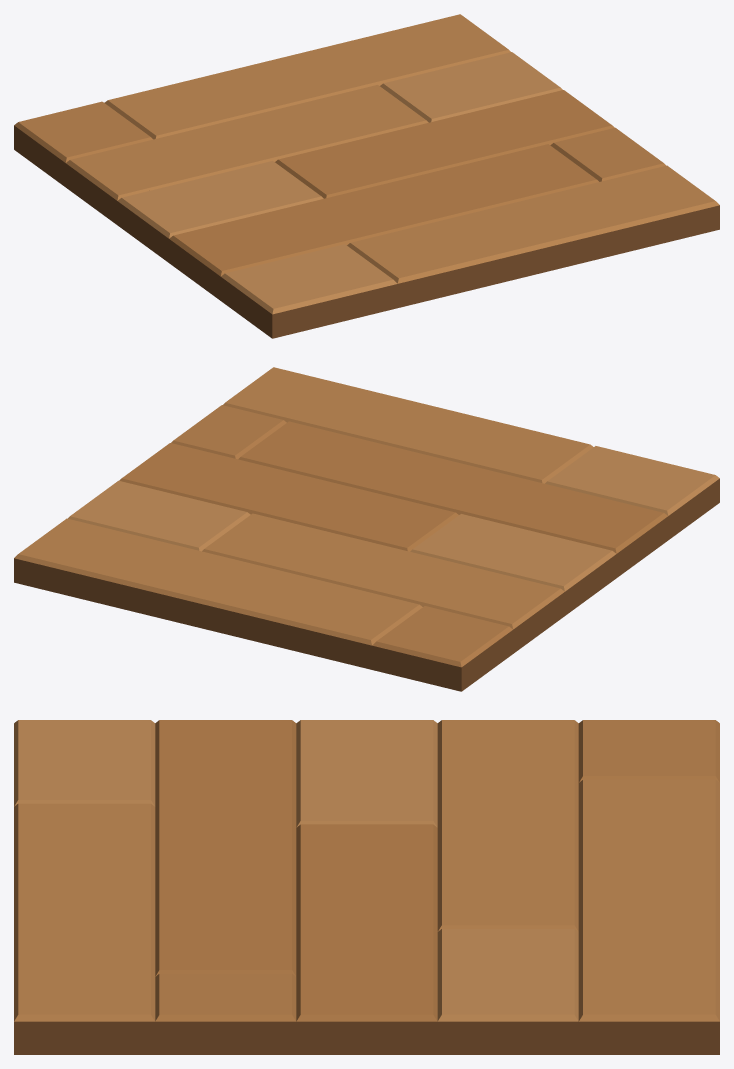
Rendered from wg_boden_flur_b.glb.
3 views of the same model, one above another, from view 1: azimuth 30°, elevation 25°; view 2: azimuth 150°, elevation 25°; view 3: azimuth 270°, elevation 25° (orthographic). The views are drawn at different scales.
Parts seen in each view (by area): view 1: wg_boden_flur_b; view 2: wg_boden_flur_b; view 3: wg_boden_flur_b.
Boxes of the visible parts, x1,y1,x2,y2 form: wg_boden_flur_b: (14, 14, 719, 338); wg_boden_flur_b: (14, 367, 719, 691); wg_boden_flur_b: (14, 720, 719, 1054).
Size of the model in its own units: 1 by 0.06 by 1.
